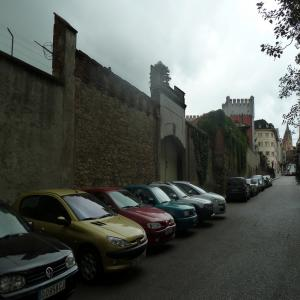Vehicle-registration-plate: (40, 280, 66, 300), (133, 252, 147, 268)
